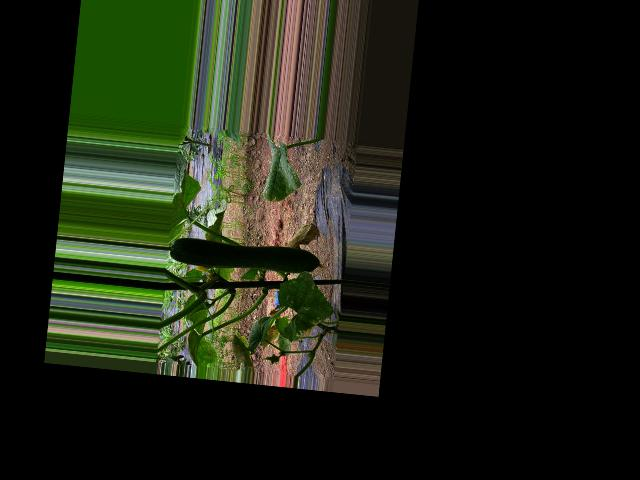cucumber: (169, 235, 325, 278)
